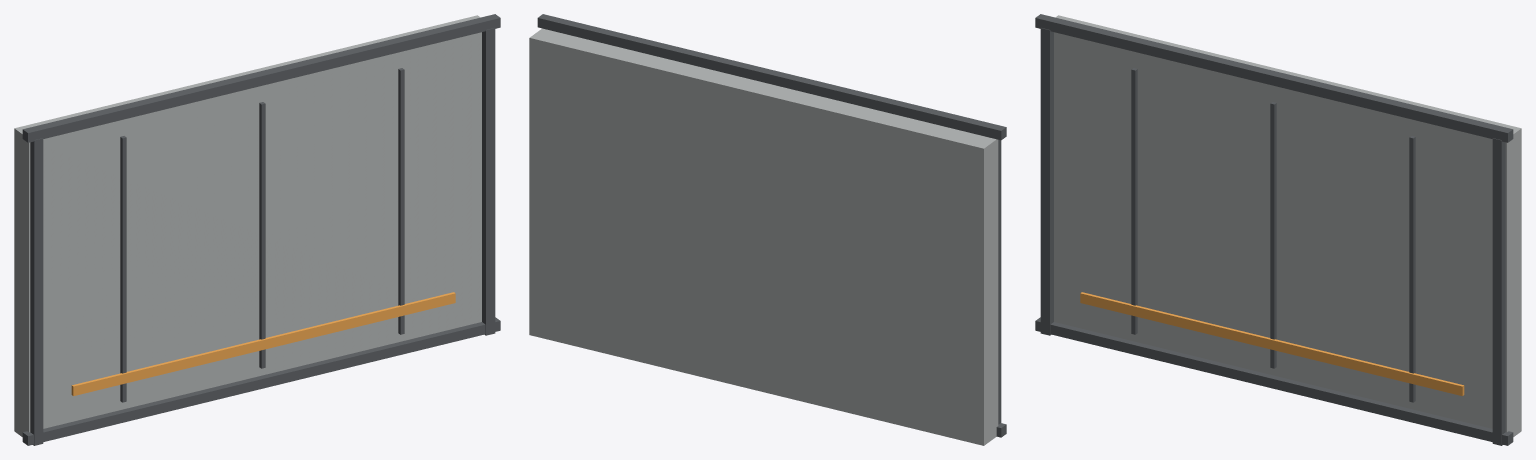
The model's file is map_wall_panel_01.glb.
3 views of the same model, side by side, from view 1: azimuth 30°, elevation 25°; view 2: azimuth 150°, elevation 25°; view 3: azimuth 330°, elevation 25° (orthographic).
Parts seen in each view (by area): view 1: geo_wall_slab, geo_top_cap, geo_bottom_cap, geo_front_hazard_stripe, geo_side_trim_+2, geo_side_trim_-2, geo_vertical_panel_line_-1.2, geo_vertical_panel_line_+0.0, geo_vertical_panel_line_+1.2; view 2: geo_wall_slab, geo_top_cap, geo_side_trim_-2; view 3: geo_wall_slab, geo_top_cap, geo_bottom_cap, geo_front_hazard_stripe, geo_side_trim_-2, geo_side_trim_+2, geo_vertical_panel_line_+1.2, geo_vertical_panel_line_+0.0, geo_vertical_panel_line_-1.2.
Boxes of the visible parts, left/top/right/bottom form: geo_wall_slab: left=14, top=15, right=481, bottom=436; geo_top_cap: left=22, top=14, right=500, bottom=142; geo_bottom_cap: left=22, top=317, right=500, bottom=445; geo_front_hazard_stripe: left=71, top=292, right=455, bottom=396; geo_side_trim_+2: left=482, top=28, right=495, bottom=335; geo_side_trim_-2: left=30, top=138, right=43, bottom=445; geo_vertical_panel_line_-1.2: left=120, top=136, right=126, bottom=402; geo_vertical_panel_line_+0.0: left=259, top=102, right=265, bottom=368; geo_vertical_panel_line_+1.2: left=398, top=68, right=404, bottom=334; geo_wall_slab: left=529, top=28, right=998, bottom=445; geo_top_cap: left=537, top=14, right=1006, bottom=140; geo_side_trim_-2: left=998, top=140, right=1001, bottom=424; geo_wall_slab: left=1054, top=15, right=1521, bottom=436; geo_top_cap: left=1035, top=14, right=1513, bottom=142; geo_bottom_cap: left=1035, top=317, right=1513, bottom=445; geo_front_hazard_stripe: left=1080, top=292, right=1464, bottom=396; geo_side_trim_-2: left=1040, top=28, right=1053, bottom=335; geo_side_trim_+2: left=1492, top=138, right=1505, bottom=445; geo_vertical_panel_line_+1.2: left=1409, top=136, right=1415, bottom=402; geo_vertical_panel_line_+0.0: left=1270, top=102, right=1276, bottom=368; geo_vertical_panel_line_-1.2: left=1131, top=68, right=1137, bottom=334.
Bounding box in the file's own units: 4.08 × 2.59 × 0.28.
